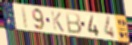4: (87, 14, 101, 38), (103, 16, 116, 40)
9: (31, 8, 46, 31)
B: (65, 11, 83, 35)
I: (21, 6, 29, 30)
K: (50, 10, 66, 34)
